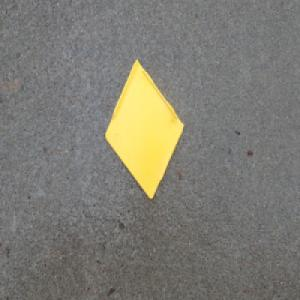PlasticPart: (103, 58, 184, 202)
